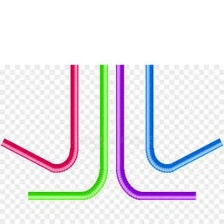drinking_straw: (111, 61, 199, 205), (24, 61, 112, 205), (140, 61, 224, 175), (0, 63, 83, 178)
